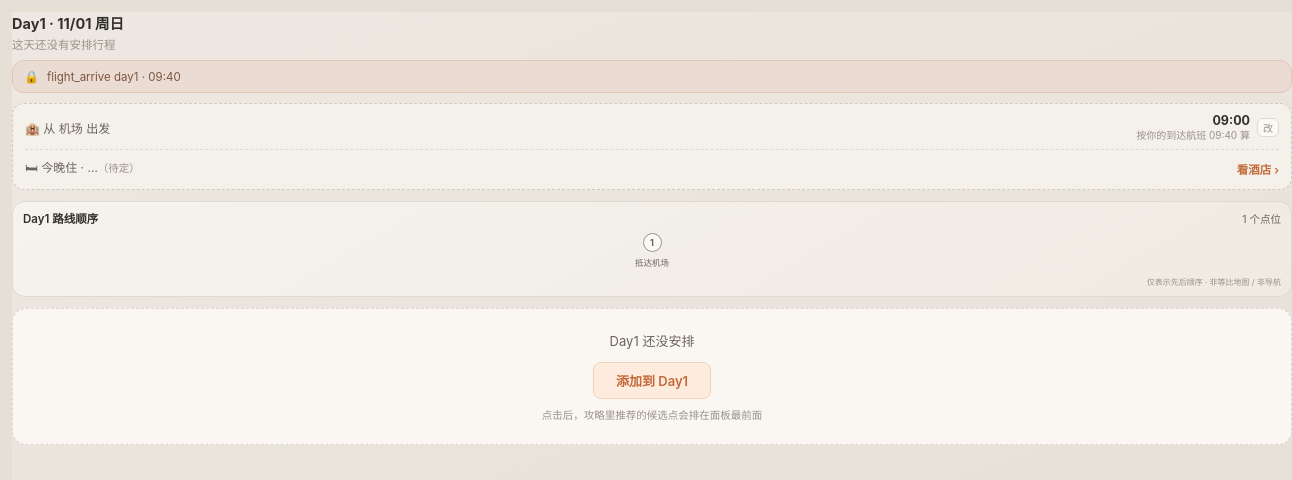
Test: Task #340 开关打开：DayContent 时长汇总与 S5 灰字恢复渲染 › 编辑态恢复对应来源灰字（原 Task #281 断言）
Click the button with class "anchor-edit-btn" at (1268, 127), box [1257,118,1279,137]
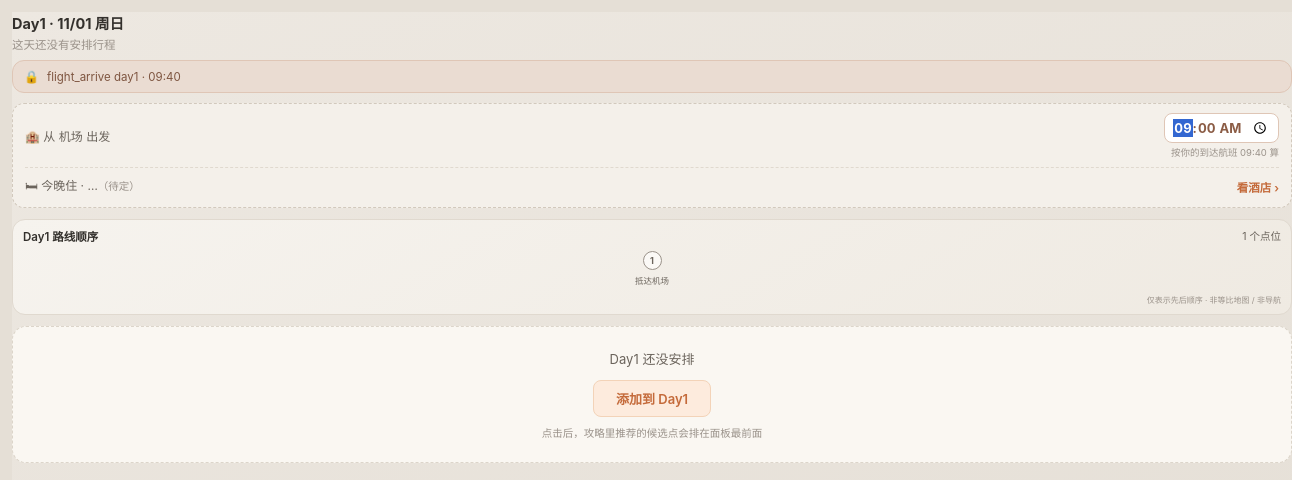
Expected: the text with class "editing-hint" reads "按你的到达航班 09:40 算", [1171,147,1279,158]
Now the text "按你的到达航班 09:40 算" is shown, box [1171,145,1279,159]
